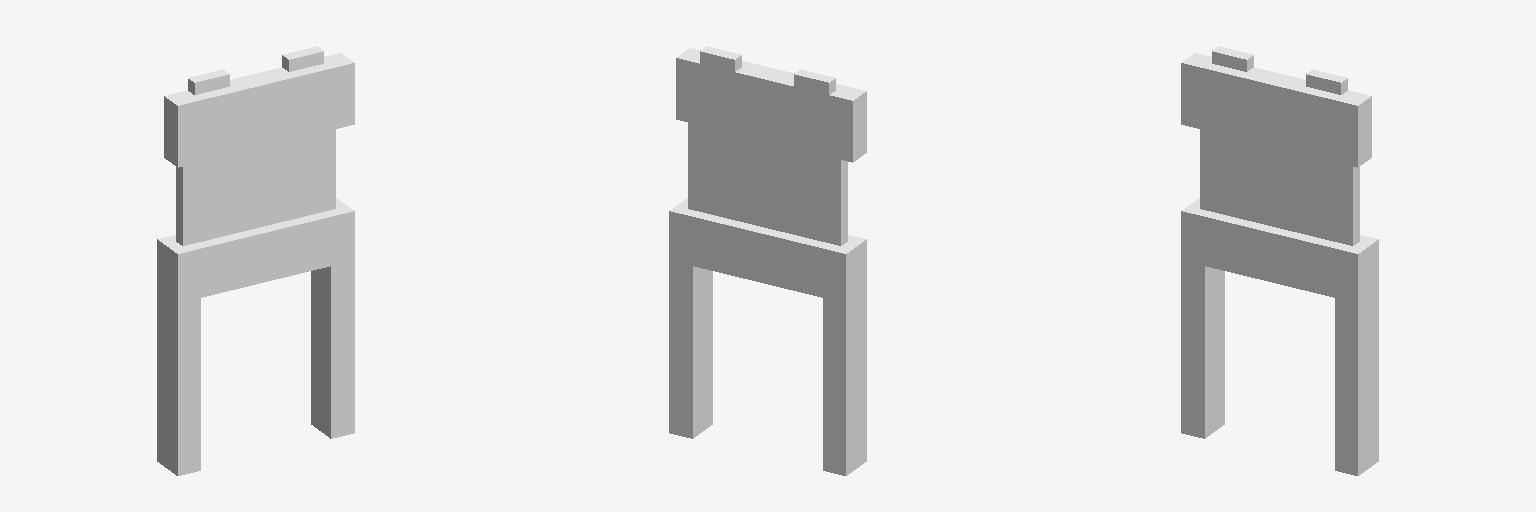
Rendered from hiboard.obj.
3 views of the same model, side by side, from view 1: azimuth 30°, elevation 25°; view 2: azimuth 150°, elevation 25°; view 3: azimuth 330°, elevation 25° (orthographic).
Parts seen in each view (by area): view 1: object 1; view 2: object 1; view 3: object 1.
Part boxes in pixels (x1,y1,x2,y2): object 1: (157, 46, 354, 475); object 1: (669, 46, 866, 475); object 1: (1181, 46, 1378, 475).
Size of the model in its own units: 1.5 by 3.1 by 0.3.